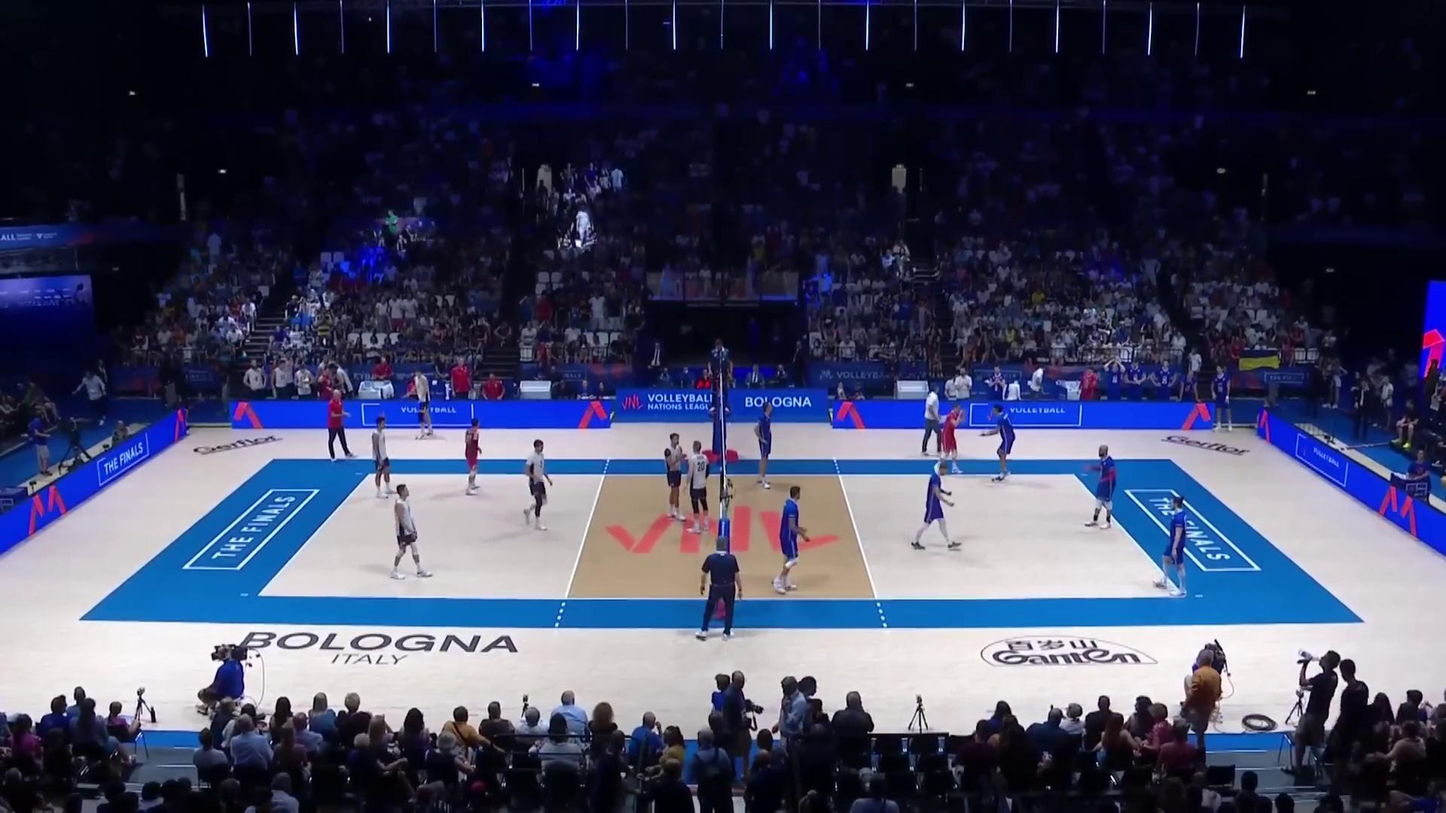player: (388, 481, 431, 579), (913, 465, 959, 551), (775, 489, 811, 595), (1086, 445, 1120, 527), (1161, 497, 1188, 598), (525, 438, 554, 532), (987, 406, 1015, 484), (688, 441, 711, 533), (665, 436, 690, 517), (937, 401, 962, 480), (373, 419, 396, 498), (755, 400, 775, 481), (463, 419, 482, 492)
refree: (697, 538, 740, 643), (709, 339, 731, 413)
